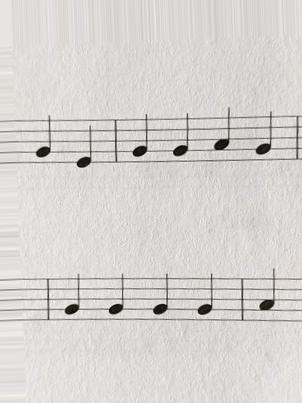A: (209, 103, 235, 166), (254, 265, 280, 328)
E: (72, 113, 99, 178)
G: (192, 269, 220, 331), (250, 108, 278, 166), (58, 269, 85, 328), (149, 272, 175, 327), (32, 110, 56, 169), (106, 269, 131, 325), (170, 108, 192, 170), (131, 110, 154, 168)
